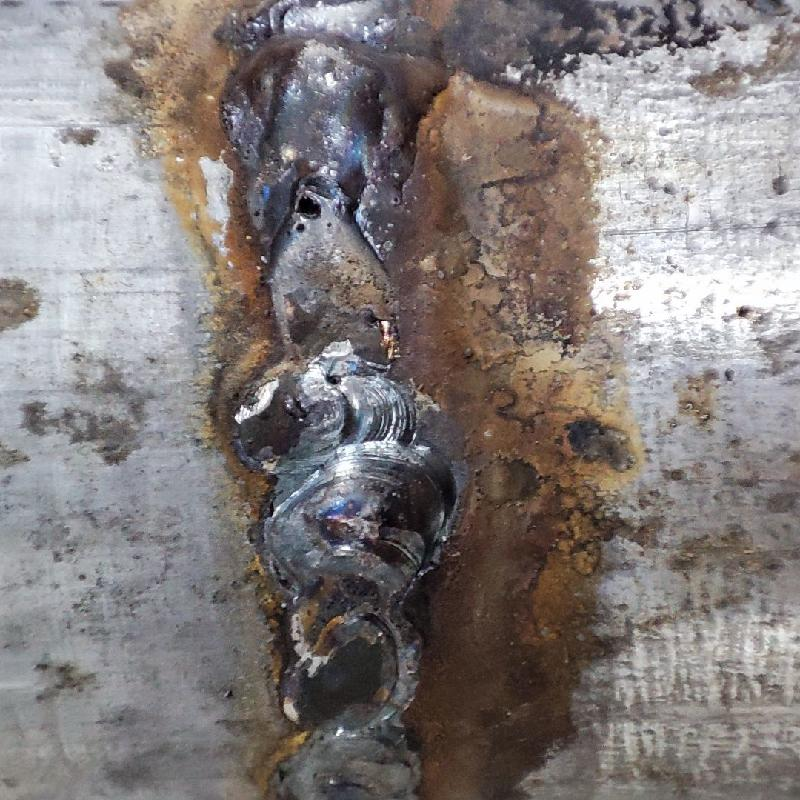Not_fully_soldered: (233, 191, 431, 444)
Surface_pores: (273, 180, 352, 239)
Weld: (219, 30, 459, 227)
wrong_size: (238, 449, 452, 797)
